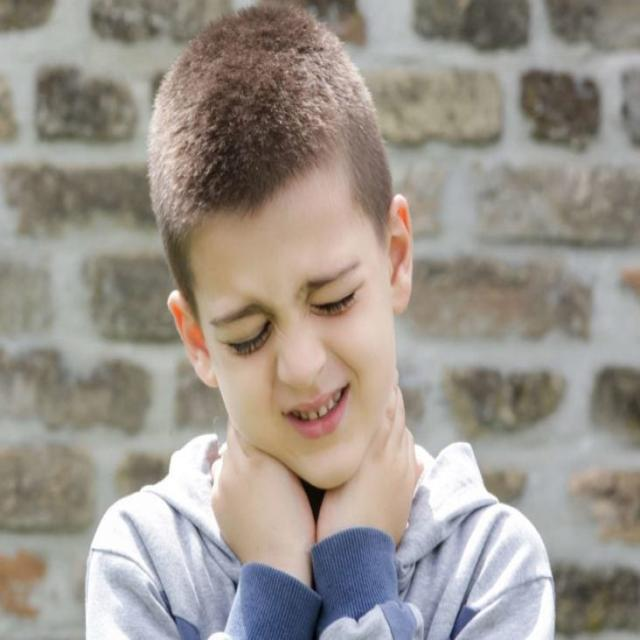child: (85, 0, 558, 640)
